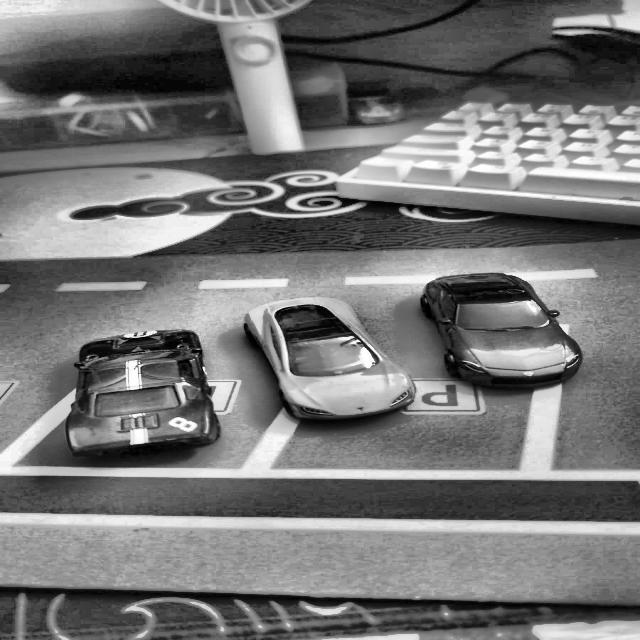car: (242, 296, 416, 421), (65, 328, 221, 458), (419, 272, 582, 390)
